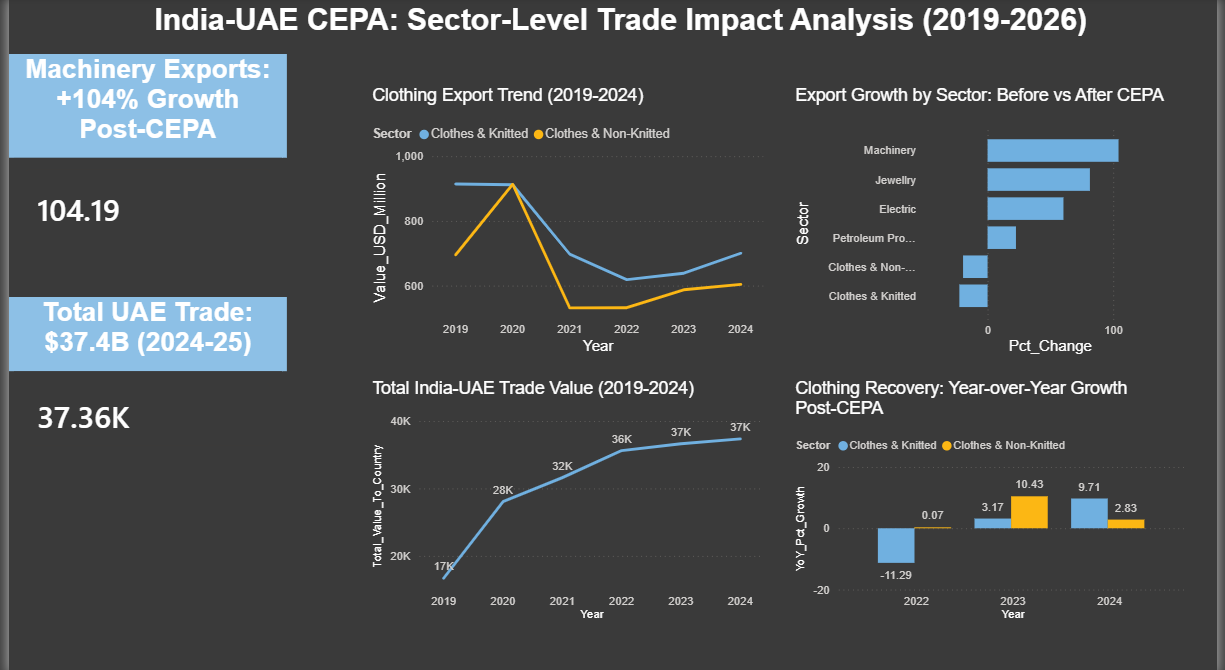

What the dashboard file says about the page in this screenshot:
{"tool":"powerbi","page":{"name":"Page 1","canvas":[1280,720],"ordinal":0},"visuals":[{"type":"lineChart","title":"Clothing Export Trend (2019-2024)","fields":{"Category":["fta_yearly_trend.Year"],"Y":["Sum(fta_yearly_trend.Value_USD_Million)"],"Series":["fta_yearly_trend.Sector"]},"box":[380.2,93.8,424.7,289.5],"z":0},{"type":"clusteredBarChart","title":"Export Growth by Sector: Before vs After CEPA","fields":{"Category":["CEPA_Summary.Sector","CEPA_Summary.Trade_Type"],"Y":["Sum(CEPA_Summary.Pct_Change)"]},"box":[829,93.9,424.6,290],"z":1000},{"type":"lineChart","title":"Total India-UAE Trade Value (2019-2024)","fields":{"Category":["fta_yearly_trend_v2.Year_Sort"],"Y":["Avg(fta_yearly_trend_v2.Total_Value_To_Country)"]},"box":[380.5,404.8,425.2,262.7],"z":2000},{"type":"clusteredColumnChart","title":"Clothing Recovery: Year-over-Year Growth Post-CEPA","fields":{"Category":["clothing_yoy_growth.Year_Sort"],"Y":["Sum(clothing_yoy_growth.YoY_Pct_Growth)"],"Series":["clothing_yoy_growth.Sector"]},"box":[829,404.8,425.2,262.7],"z":3000},{"type":"textbox","box":[17,0,1262.4,60.5],"z":4000},{"type":"cardVisual","title":"Machinery Exports: +104% Growth Post-CEPA","fields":{"Data":["Sum(CEPA_Summary.Pct_Change)"]},"box":[0,59.9,294.7,218.6],"z":5000},{"type":"cardVisual","title":"Total UAE Trade: $37.4B (2024-25)","fields":{"Data":["Avg(fta_yearly_trend_v2.Total_Value_To_Country)"]},"box":[0,317.4,294.7,174.9],"z":6000}]}

Visuals, with their boxes in screenshot pixels (x1, y1, x2, y2), scaled from the page's 1280x720 canvas onto the 1225x670 screenshot:
"Clothing Export Trend (2019-2024)" lineChart: 364/87/770/357
"Export Growth by Sector: Before vs After CEPA" clusteredBarChart: 793/87/1200/357
"Total India-UAE Trade Value (2019-2024)" lineChart: 364/377/771/621
"Clothing Recovery: Year-over-Year Growth Post-CEPA" clusteredColumnChart: 793/377/1200/621
textbox: 16/0/1224/56
"Machinery Exports: +104% Growth Post-CEPA" cardVisual: 0/56/282/259
"Total UAE Trade: $37.4B (2024-25)" cardVisual: 0/295/282/458
